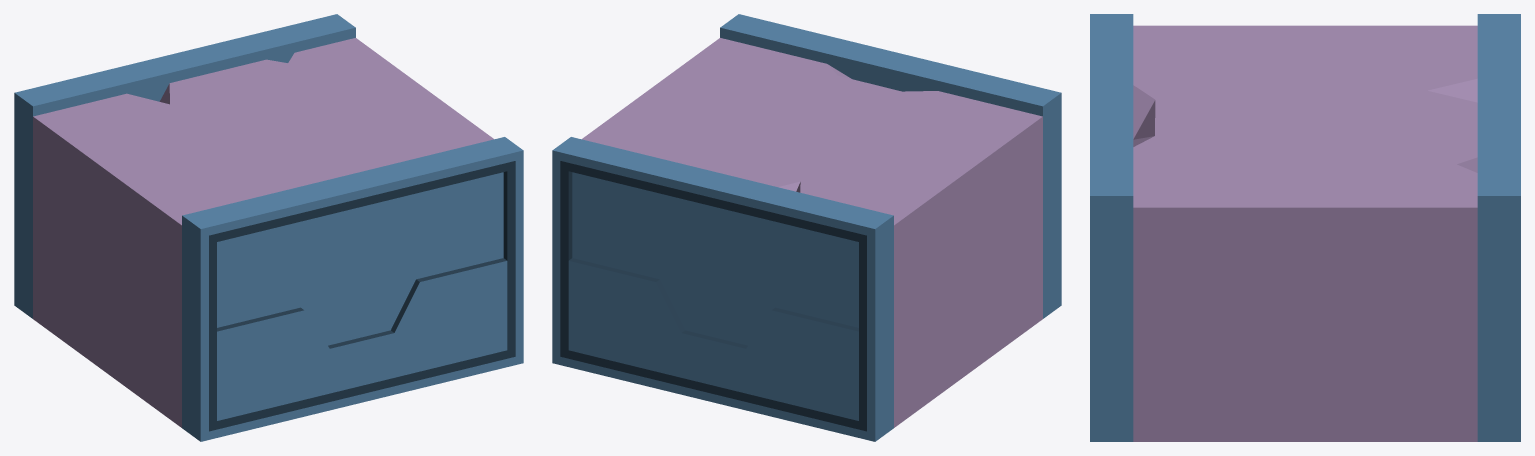
File: Wall.006.fbx
The picture shows the model from 3 angles, left to right: view 1: azimuth 30°, elevation 25°; view 2: azimuth 150°, elevation 25°; view 3: azimuth 270°, elevation 25°; orthographic projection. The views are drawn at different scales.
Parts seen in each view (by area): view 1: Wall.006; view 2: Wall.006; view 3: Wall.006.
Boxes of the visible parts, x1=… form: Wall.006: x1=14, y1=14, x2=523, y2=441; Wall.006: x1=552, y1=14, x2=1061, y2=441; Wall.006: x1=1090, y1=14, x2=1520, y2=441.
Bounding box in the file's own units: 1000 × 630 × 1000.
